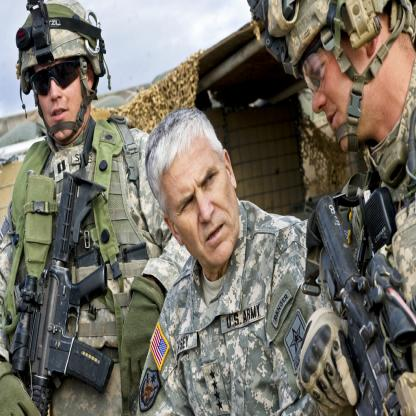Helmet: (246, 0, 416, 155), (16, 5, 97, 147)
